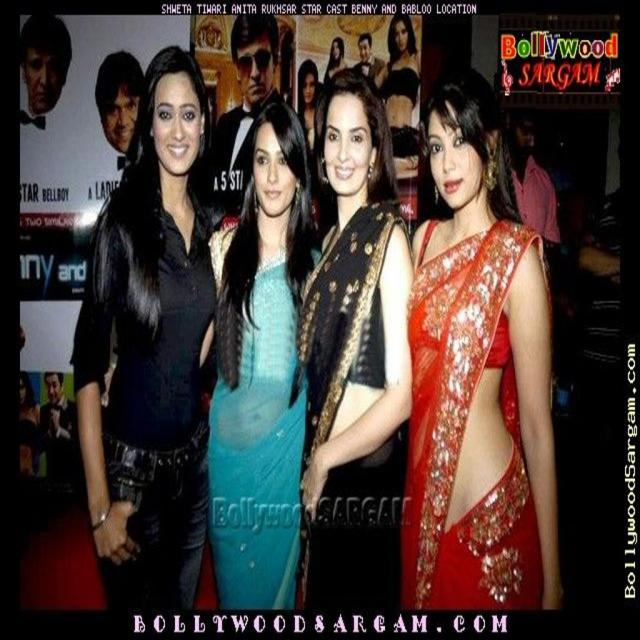nomask: (426, 100, 484, 208), (152, 75, 200, 173), (324, 95, 370, 194), (254, 125, 295, 216), (104, 85, 141, 152), (26, 48, 62, 112), (238, 38, 272, 102), (393, 22, 408, 50), (45, 376, 60, 403), (302, 72, 314, 103), (359, 39, 369, 62), (19, 377, 25, 404), (332, 43, 338, 59)
